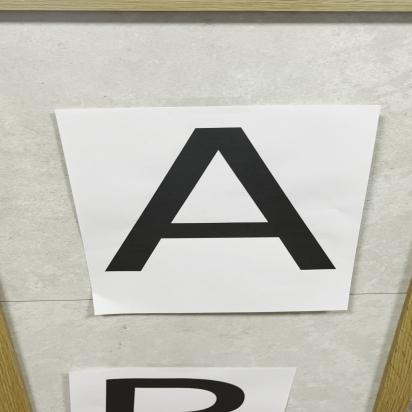seat: (94, 123, 342, 296)
